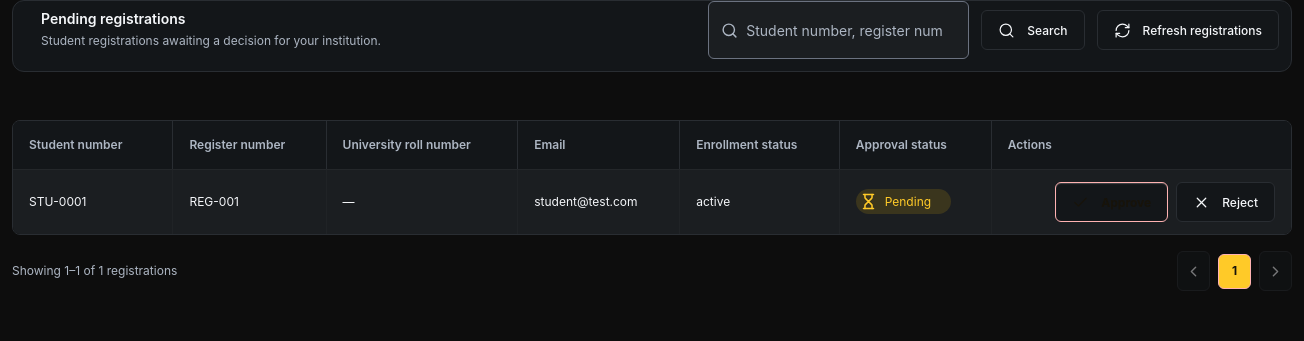
Scenario: AdminApprovals › approves a pending student and removes the row
Click the button "Approve". click: (1112, 202)
box: [1055, 182, 1168, 222]
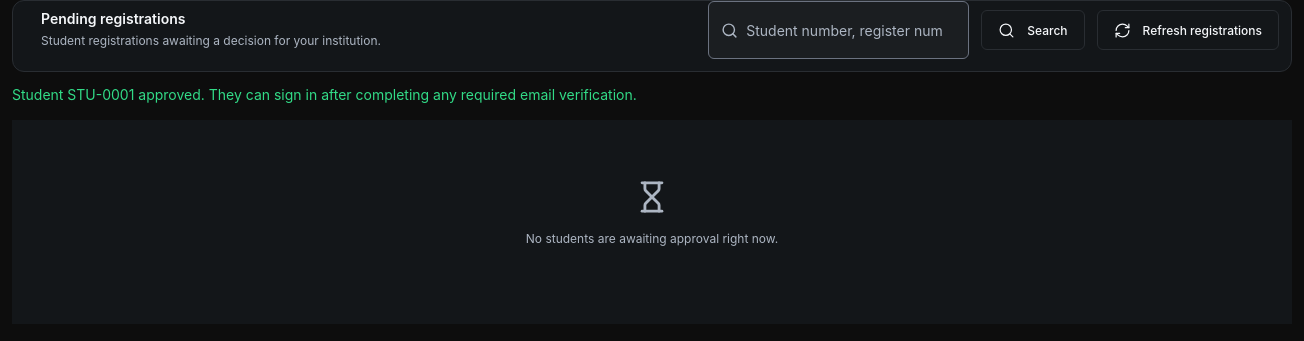
Check: the message shows "No students are awaiting approval", box [526, 231, 778, 246]
